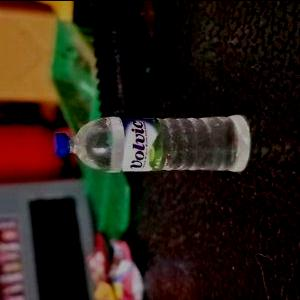bottle: (49, 106, 255, 175)
